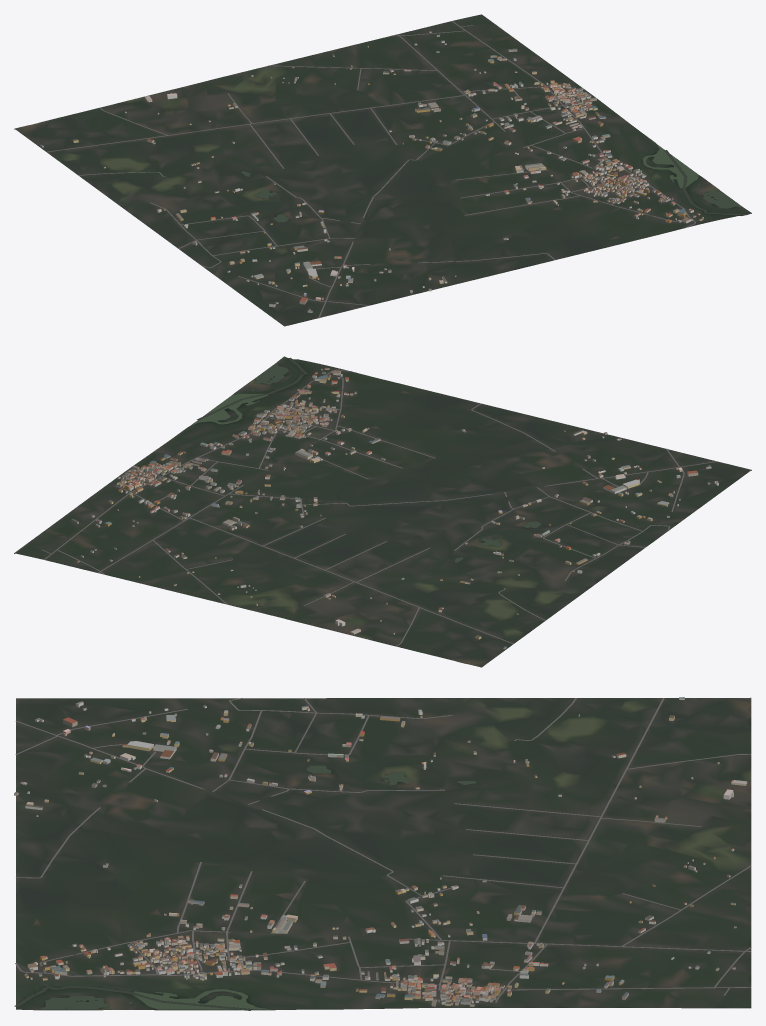
3 views of the same model, one above another, from view 1: azimuth 30°, elevation 25°; view 2: azimuth 150°, elevation 25°; view 3: azimuth 270°, elevation 25° (orthographic). The views are drawn at different scales.
Parts seen in each view (by area): view 1: ground, buildings, roads, water; view 2: ground, buildings, roads, water; view 3: ground, buildings, roads, water.
Boxes of the visible parts, x1,y1,x2,y2 form: ground: (14, 14, 751, 326); buildings: (40, 30, 703, 312); roads: (14, 21, 695, 318); water: (34, 123, 746, 222); ground: (14, 356, 751, 667); buildings: (71, 367, 718, 649); roads: (42, 369, 717, 667); water: (191, 357, 541, 662); ground: (16, 698, 751, 1010); buildings: (14, 697, 747, 1006); roads: (15, 697, 751, 1002); water: (14, 711, 750, 1010).
Bounding box in the file's own units: 1406 × 19.85 × 1407.
